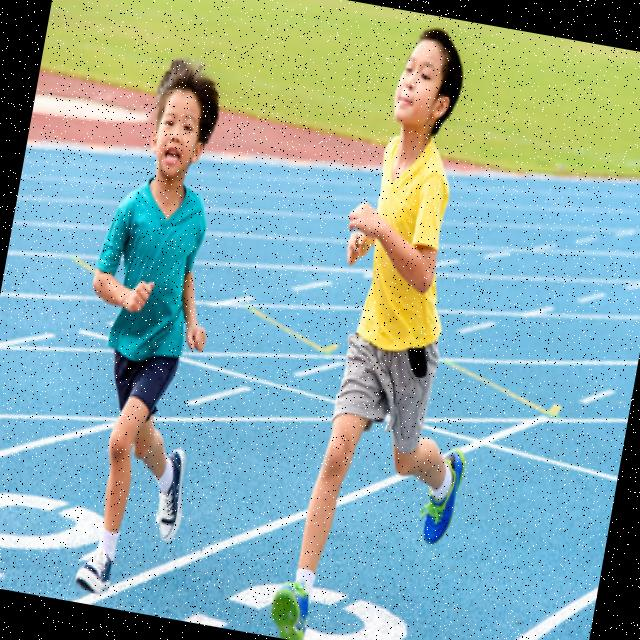Person: (265, 15, 537, 640), (39, 51, 259, 604)
